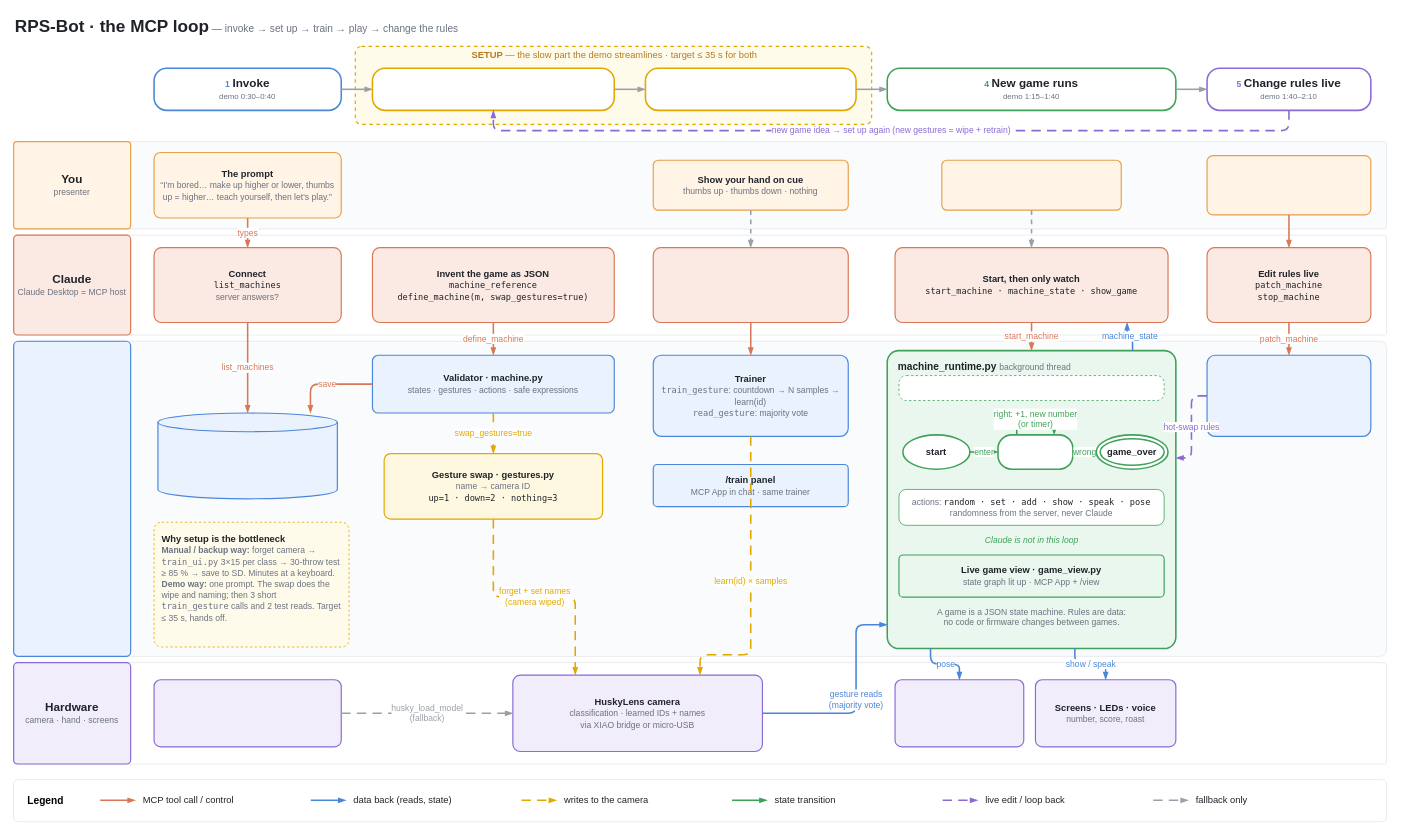
Image size: 1401x835. Some labels were removed from this diagram. Each missing label, with the centre of its shape:
"2 Set up the game demo 0:40–0:55" goes at (x=493, y=89).
"3 Train (required) demo 0:55–1:15" goes at (x=750, y=89).
"Atomic patch all ops validate or none apply · keeps state, vars, score" goes at (x=1288, y=395).
"Drive training train_gesture ×3 · read_gesture ×2 or the show_train panel" goes at (x=750, y=285).
"events: gesture:up / down · timer · enter · poke" goes at (x=1031, y=388).
"guess" goes at (x=1035, y=452).
"Hand sim or servos · poses, relax" goes at (x=959, y=713).
"Machine store <data>/machines/ fallback_machines/" goes at (x=247, y=455).
"MCP server server.py · stdio or HTTP" goes at (x=72, y=498).
"Play thumb up / down for each guess" goes at (x=1031, y=184).
"SD card slots backup only · 1 = RPS · 2 = up/down/nothing" goes at (x=247, y=713).
"“Plot twist” “thumbs down means higher”" goes at (x=1288, y=185).
